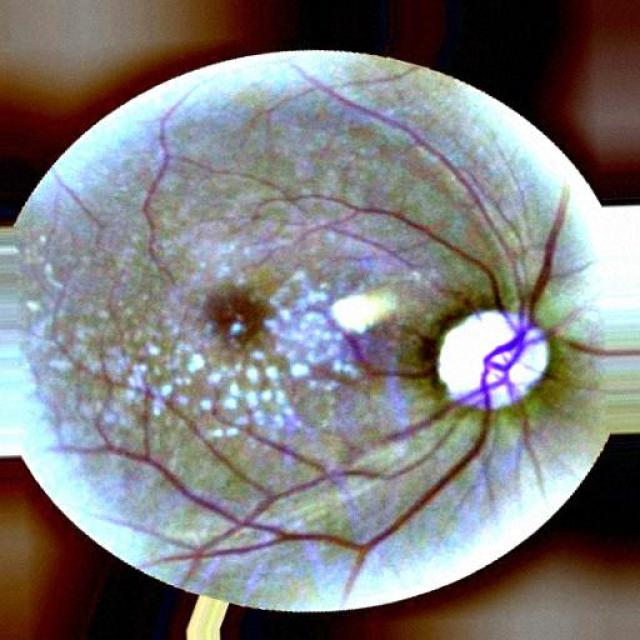Macula: (205, 271, 274, 348)
Nerves: (231, 105, 570, 355), (113, 396, 500, 594), (311, 309, 438, 381)
Optic Disk: (426, 300, 572, 430)
